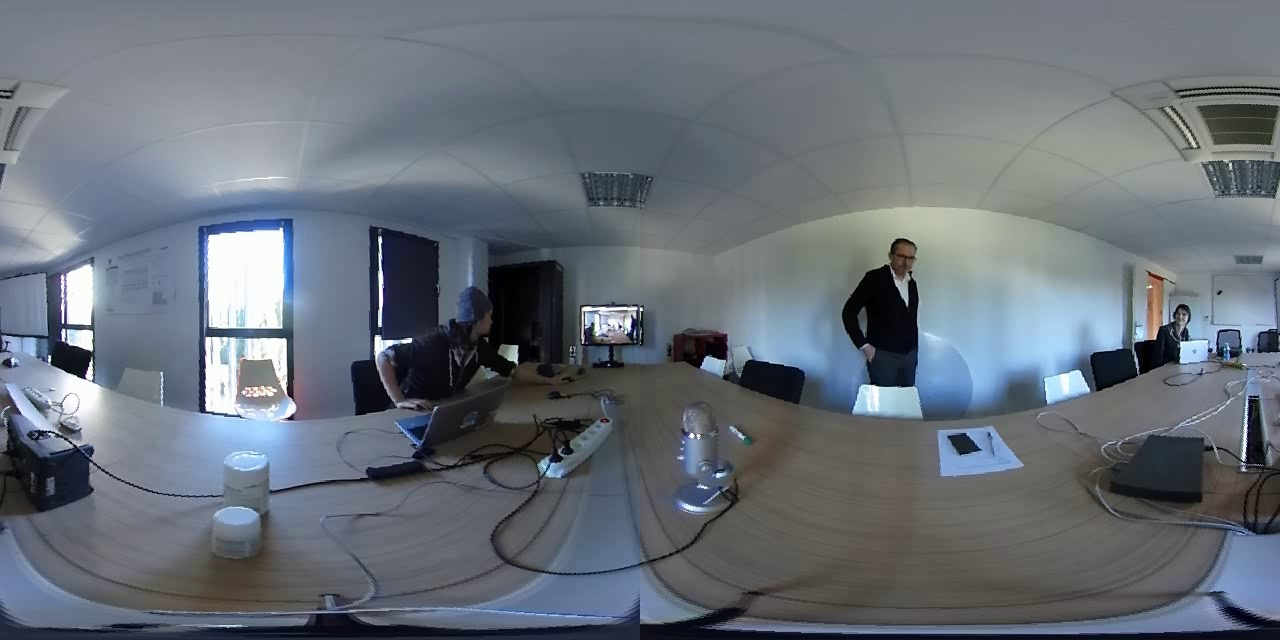person: (841, 227, 947, 379), (377, 280, 516, 382), (1161, 294, 1197, 344)
